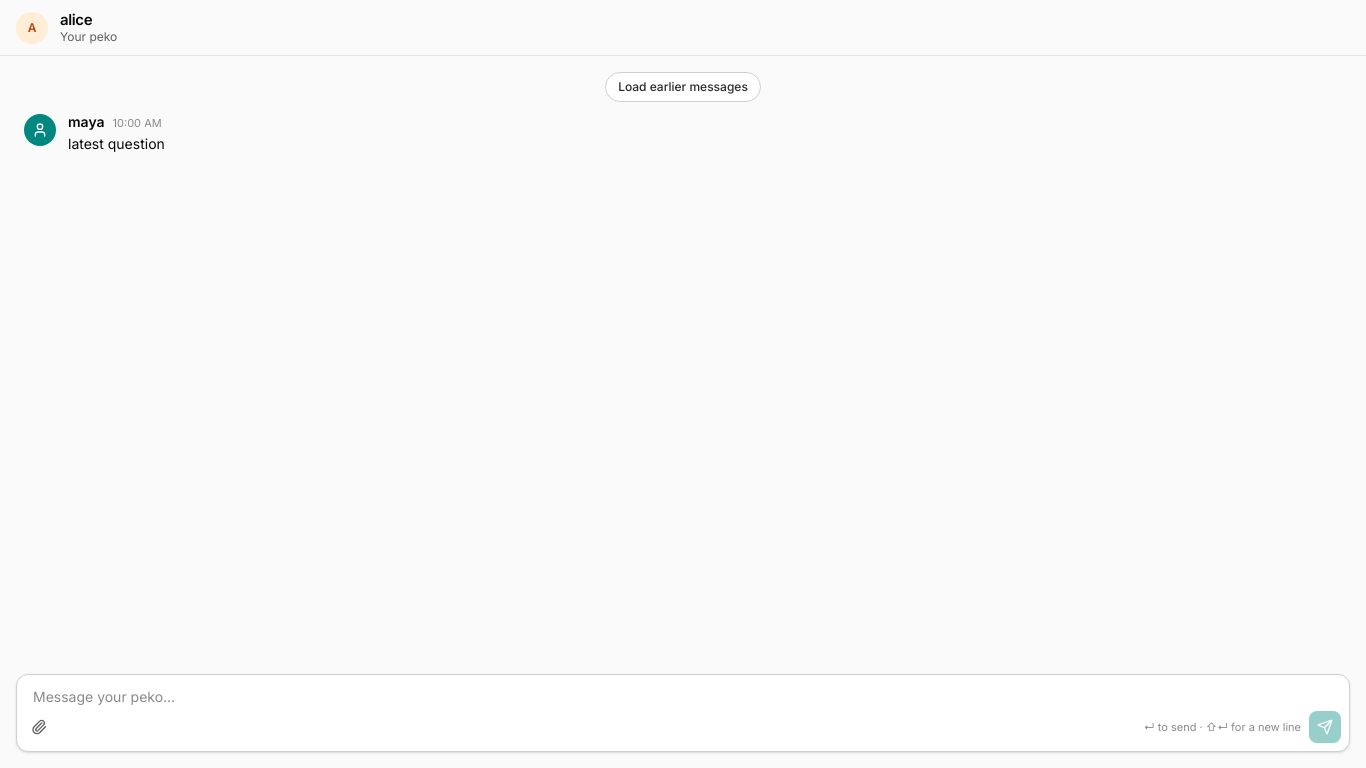
Test: Chat thread and peko lifecycle › loads earlier messages above the latest page
Expected: the text "first question" is not shown
Click the button "Load earlier messages".
click(683, 87)  # box top-left (605, 72), bottom-right (761, 102)
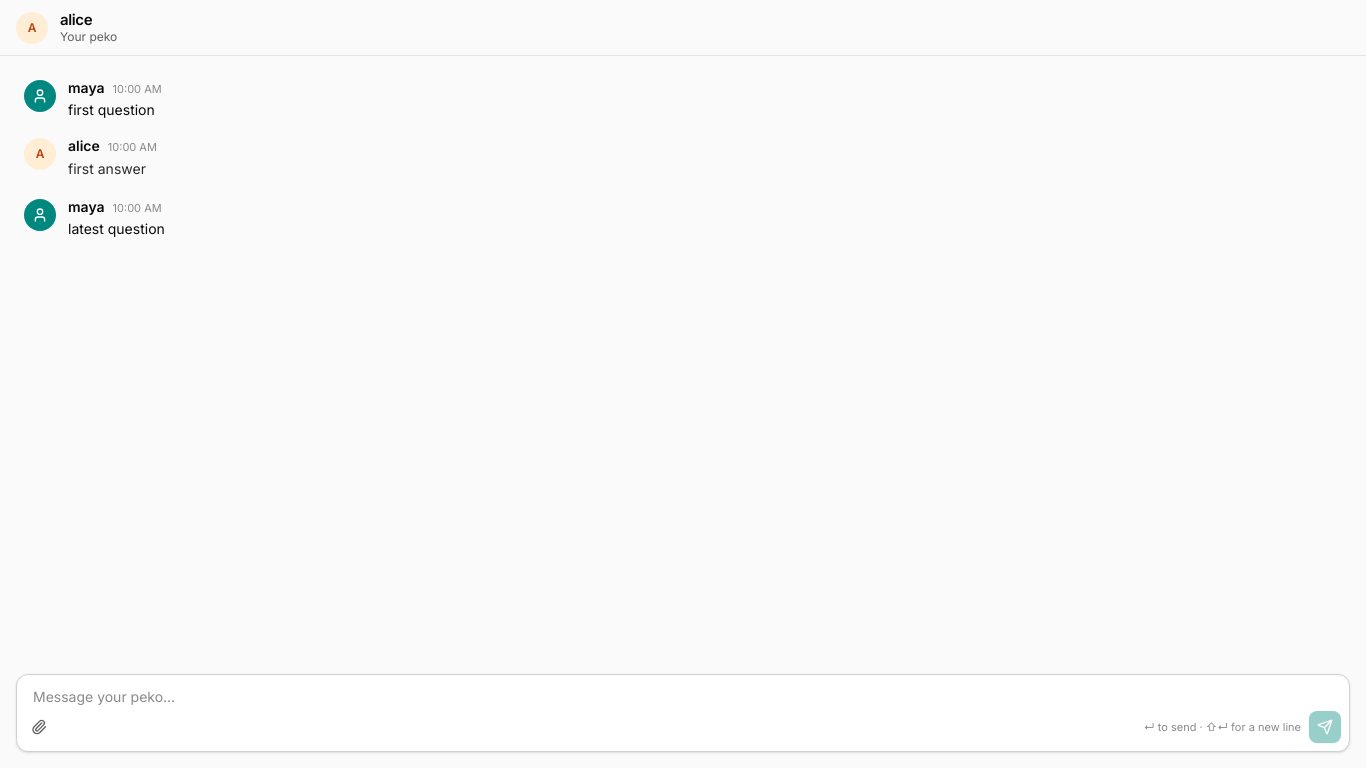
Now the text "first question" is shown, box top-left (68, 101), bottom-right (155, 118)
Now the button "Load earlier messages" is gone
